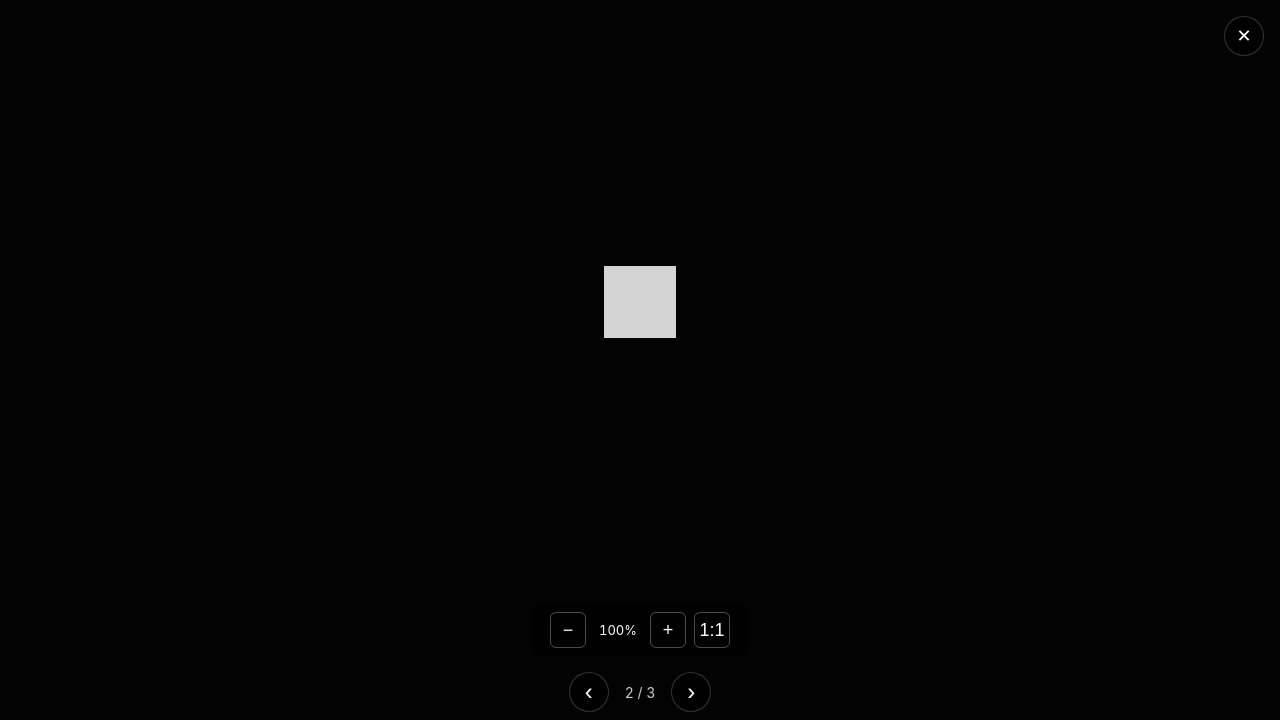
it: ImageViewer › navigates to previous image
The width and height of the screenshot is (1280, 720).
Click the button named "이전 이미지": [589, 692] box [569,672,609,712]
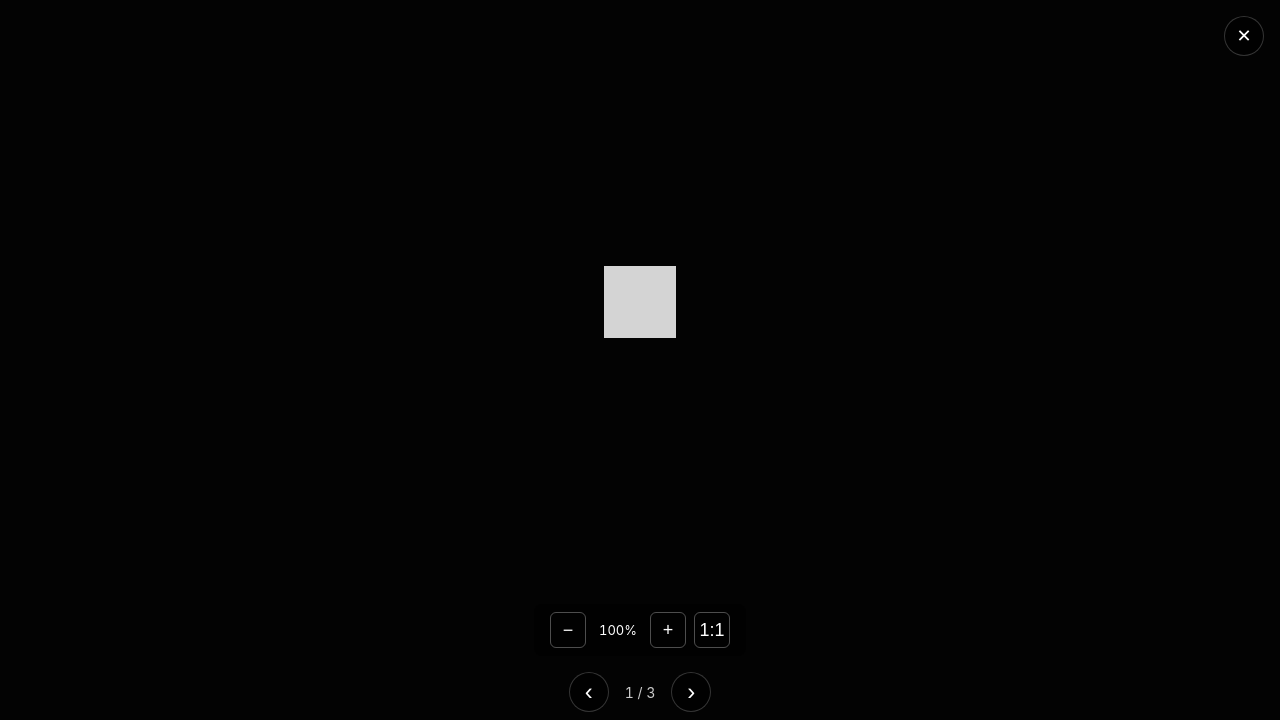
Expected: the text "1 / 3" is shown, [625,684,655,700]
